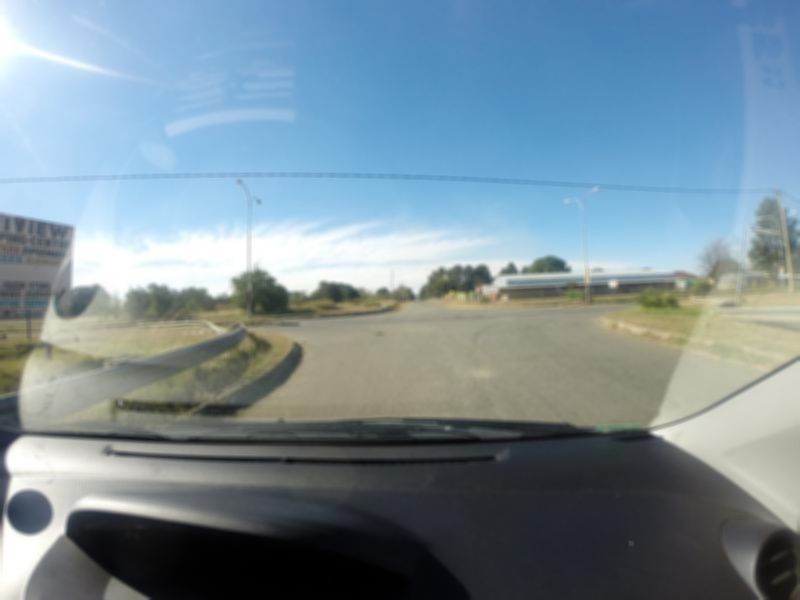pothole: (373, 327, 401, 339)
